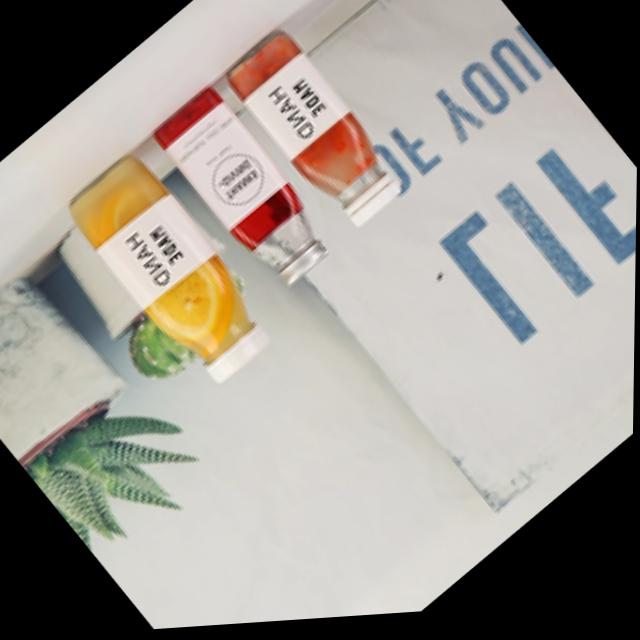glass_beverage_bottles: (66, 143, 282, 395), (146, 77, 350, 313), (218, 20, 416, 250)
